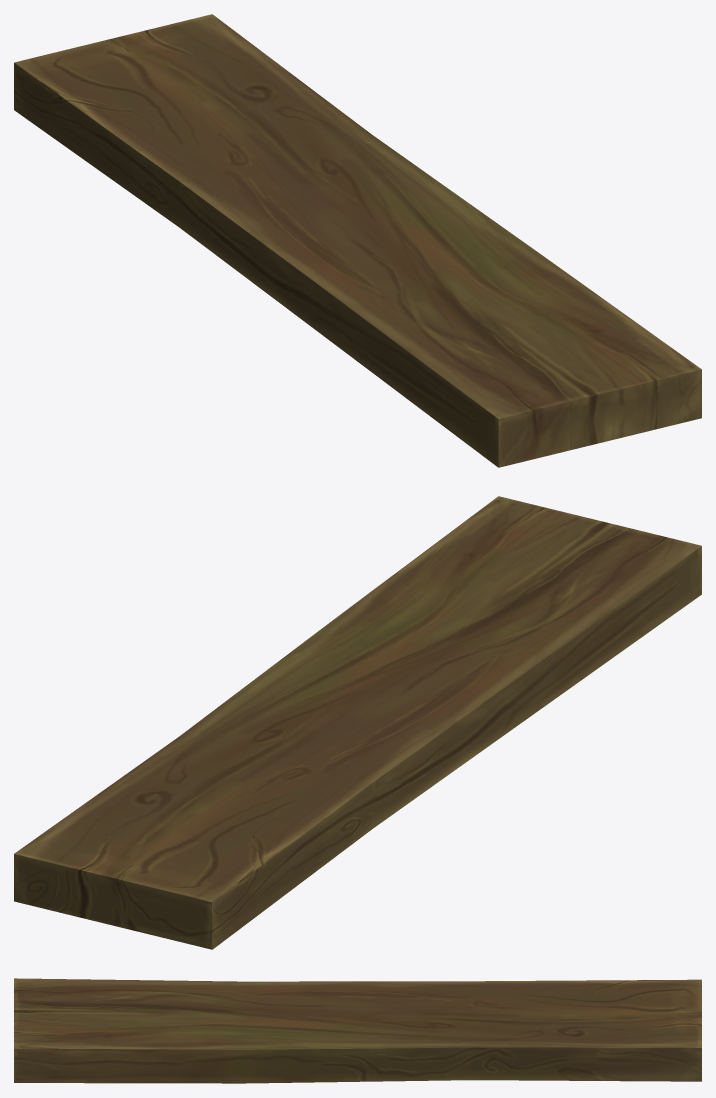
File: plank.glb
The picture shows the model from 3 angles, top to bottom: view 1: azimuth 30°, elevation 25°; view 2: azimuth 150°, elevation 25°; view 3: azimuth 270°, elevation 25°; orthographic projection. The views are drawn at different scales.
Visible parts, largest first — view 1: Cube; view 2: Cube; view 3: Cube.
Part boxes in pixels (<box>): Cube: <box>14,14,701,467</box>; Cube: <box>14,496,701,949</box>; Cube: <box>14,978,701,1083</box>.
Bounding box in the file's own units: 1.29 × 0.3014 × 5.34.
Materials: 1 (1 with a texture image).
